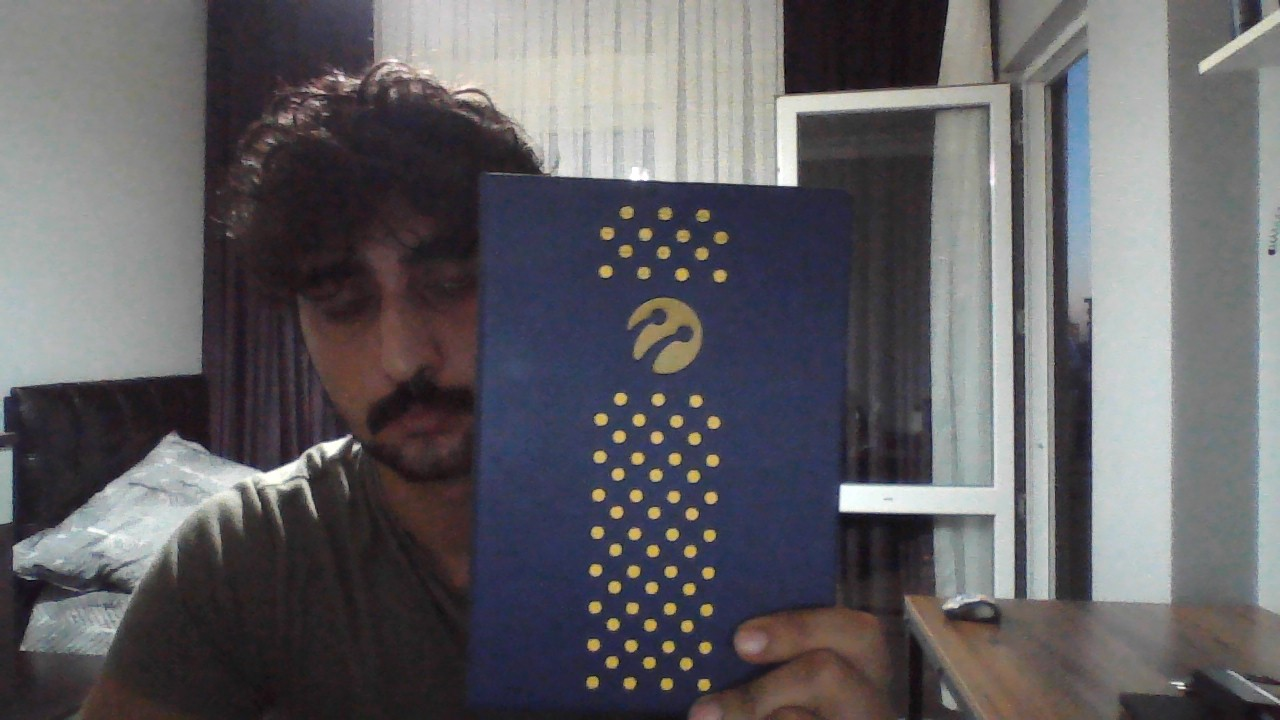turkcell: (625, 295, 710, 379)
